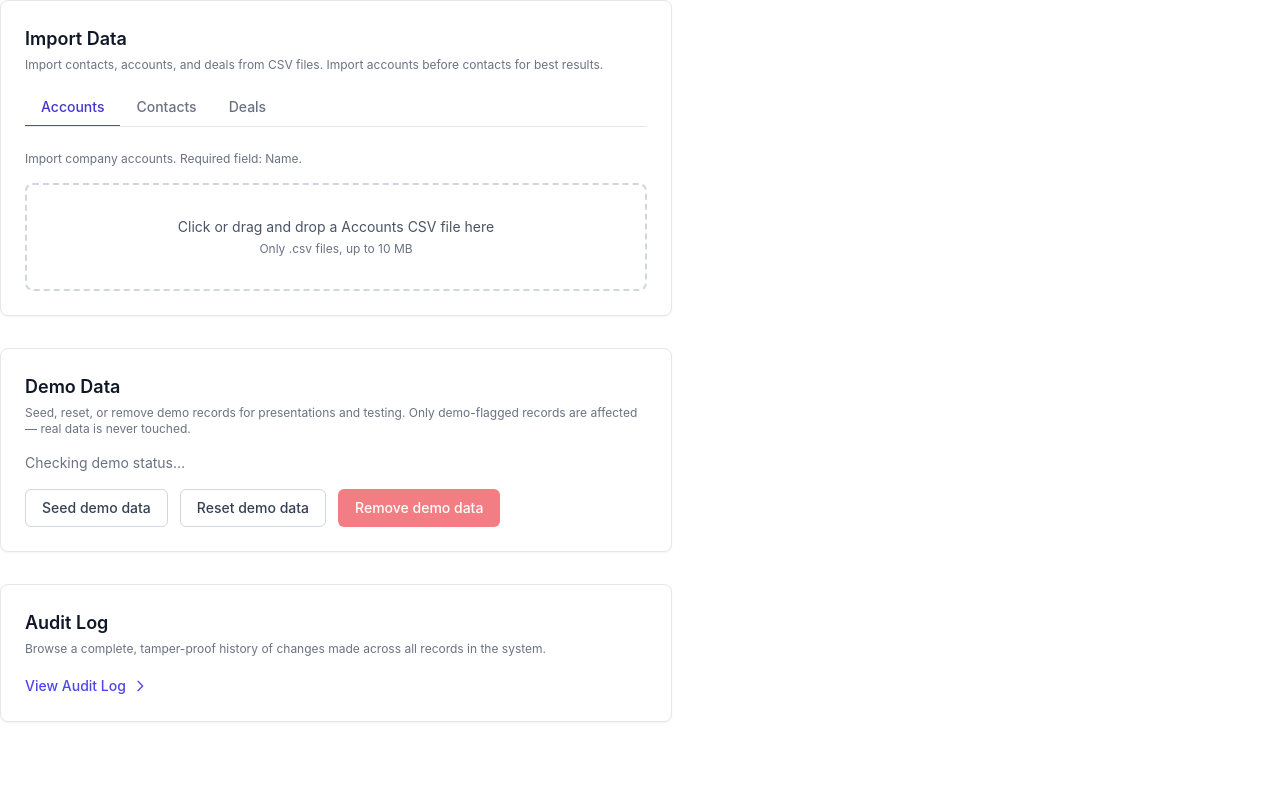
Test case: DataSettings — demo data › shows error feedback when seed API fails
The image size is (1280, 800).
Click the button with test id "demo-seed-button": [96, 508] box [25,489,168,527]
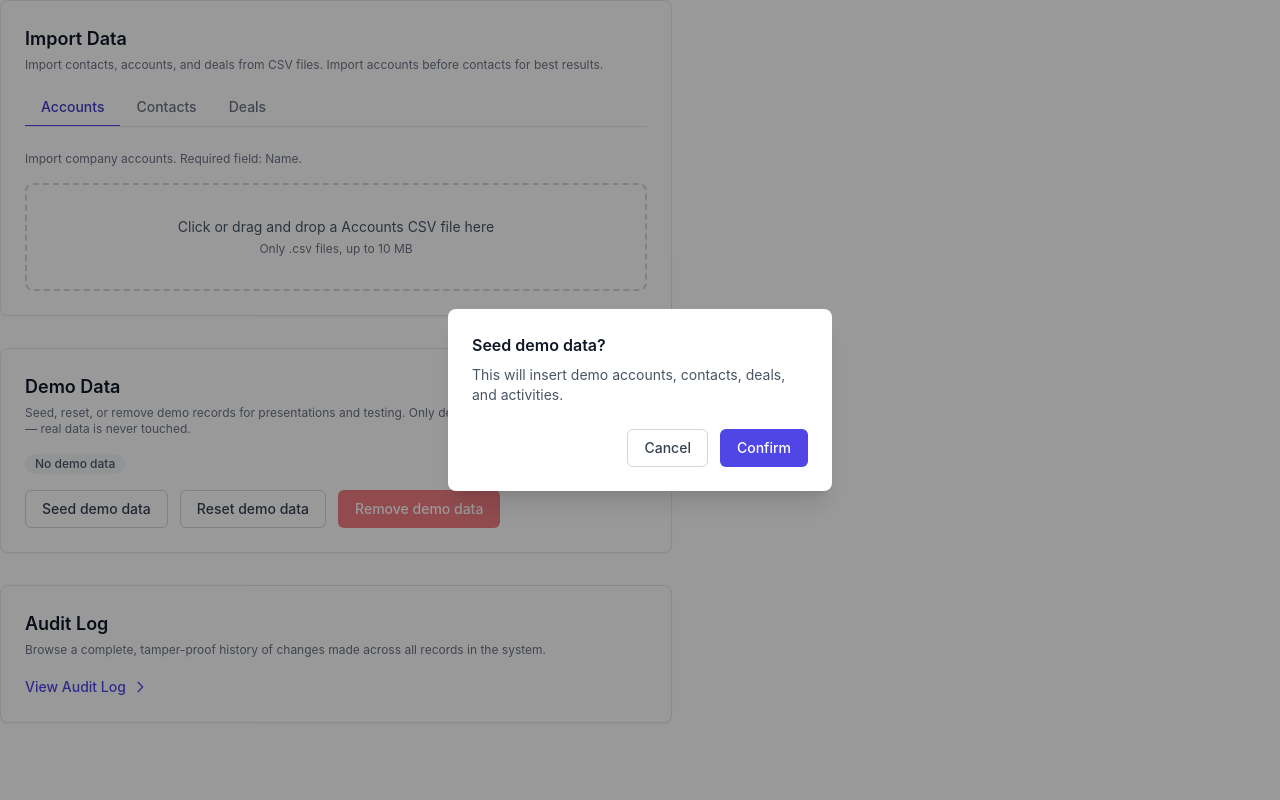
Click the button with test id "demo-confirm-ok": [764, 448] box [720,429,808,467]
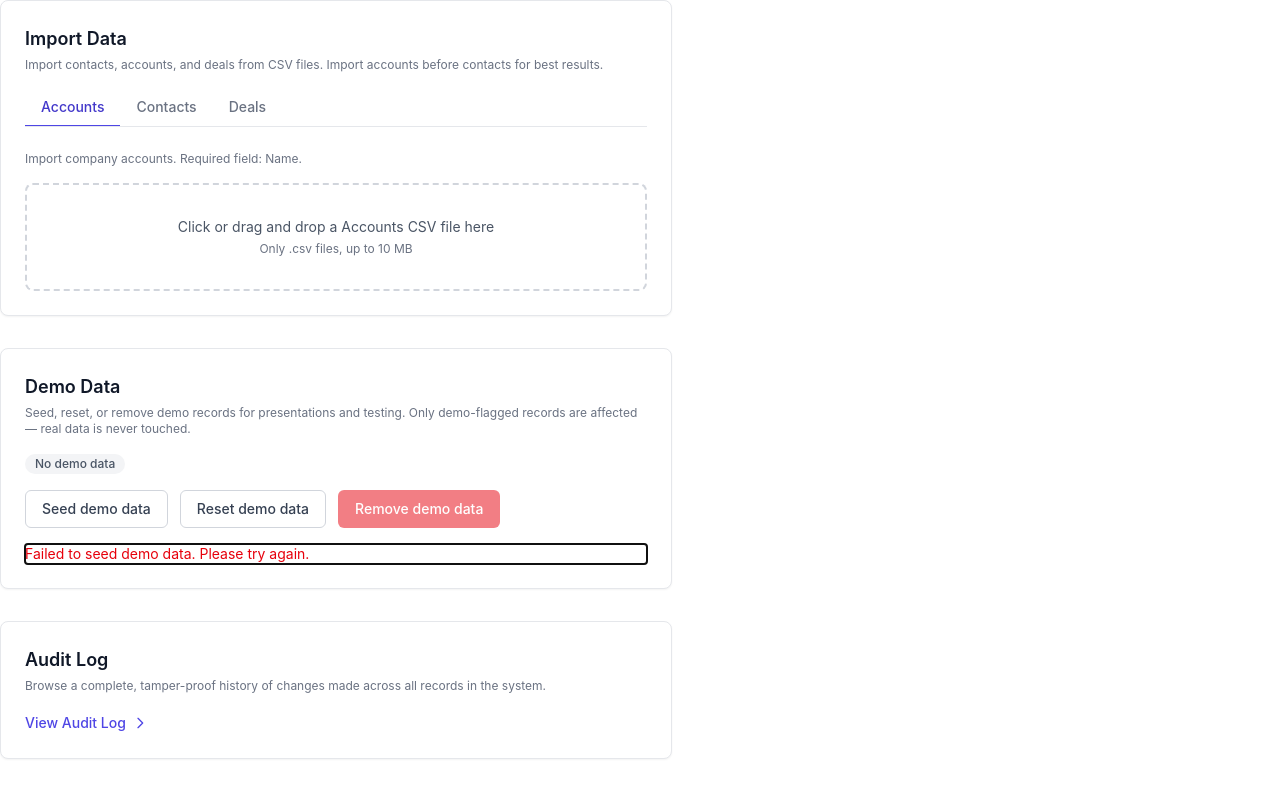
Expected: the message "Failed to seed demo data. Please try again." is shown, [25,545,309,562]
